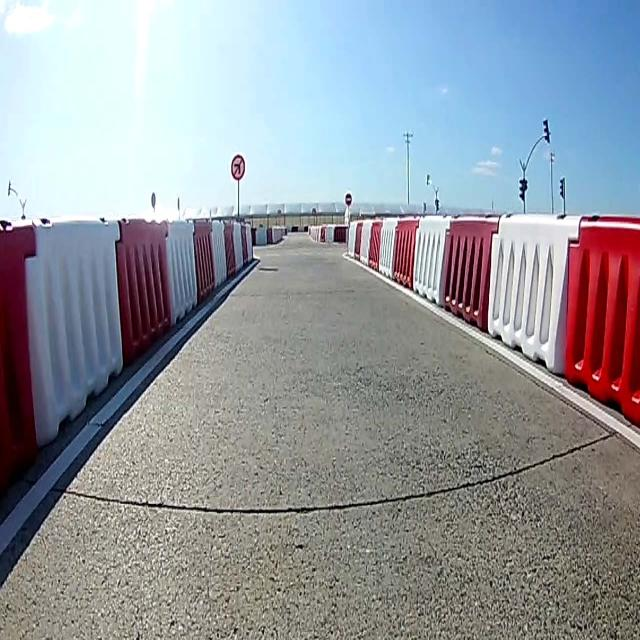girisyok: (346, 192, 352, 206)
soladonulmez: (230, 153, 245, 179)
